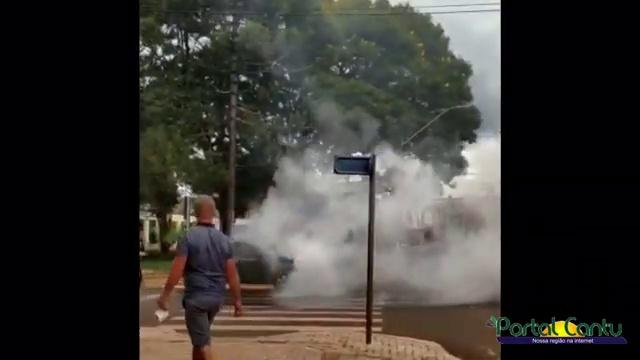smoke: (288, 179, 359, 288), (393, 240, 495, 300)
